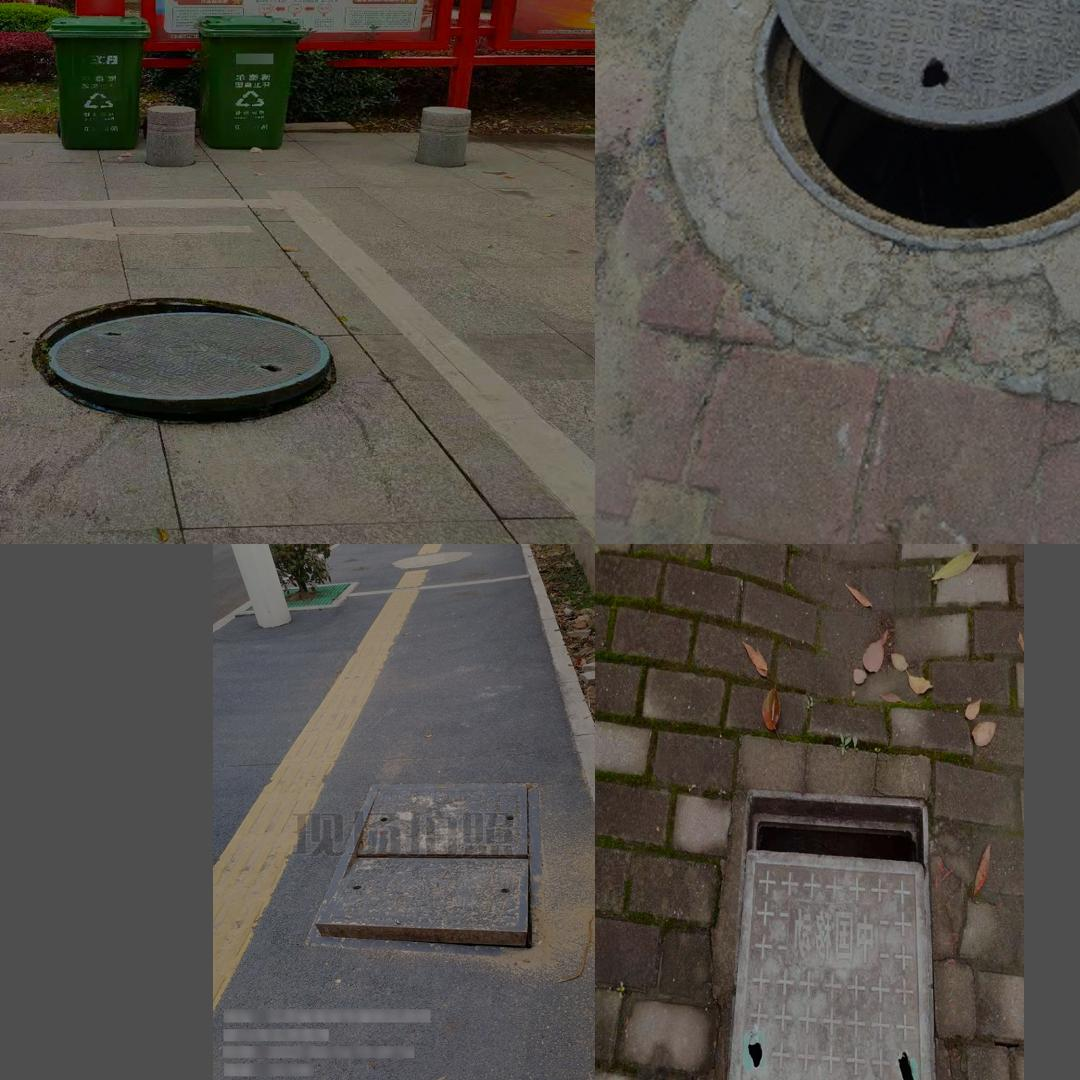uncovered: (748, 0, 1080, 255), (710, 789, 940, 1080), (302, 783, 549, 960), (26, 297, 336, 424)
